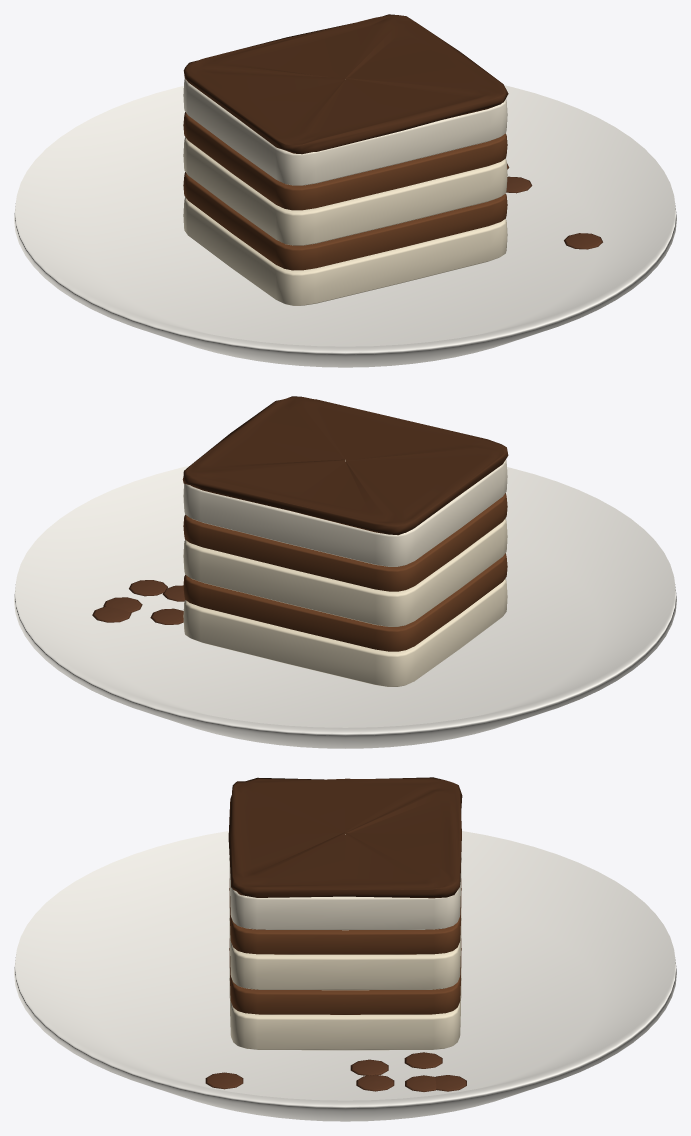
File: tiramisu-da-casa.glb
3 views of the same model, one above another, from view 1: azimuth 30°, elevation 25°; view 2: azimuth 150°, elevation 25°; view 3: azimuth 270°, elevation 25° (orthographic).
Visible parts, largest first — view 1: tiramisu-da-casa; view 2: tiramisu-da-casa; view 3: tiramisu-da-casa.
Boxes of the visible parts, box(x1,y1,x2,y2) form: tiramisu-da-casa: box(14, 14, 676, 367); tiramisu-da-casa: box(14, 396, 676, 748); tiramisu-da-casa: box(14, 777, 676, 1121).
Bounding box in the file's own units: 0.2 × 0.0691 × 0.2.
